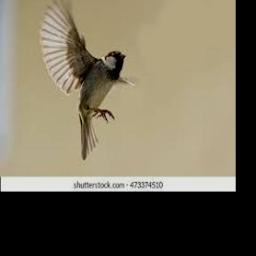Sparrow: (41, 0, 134, 159)
